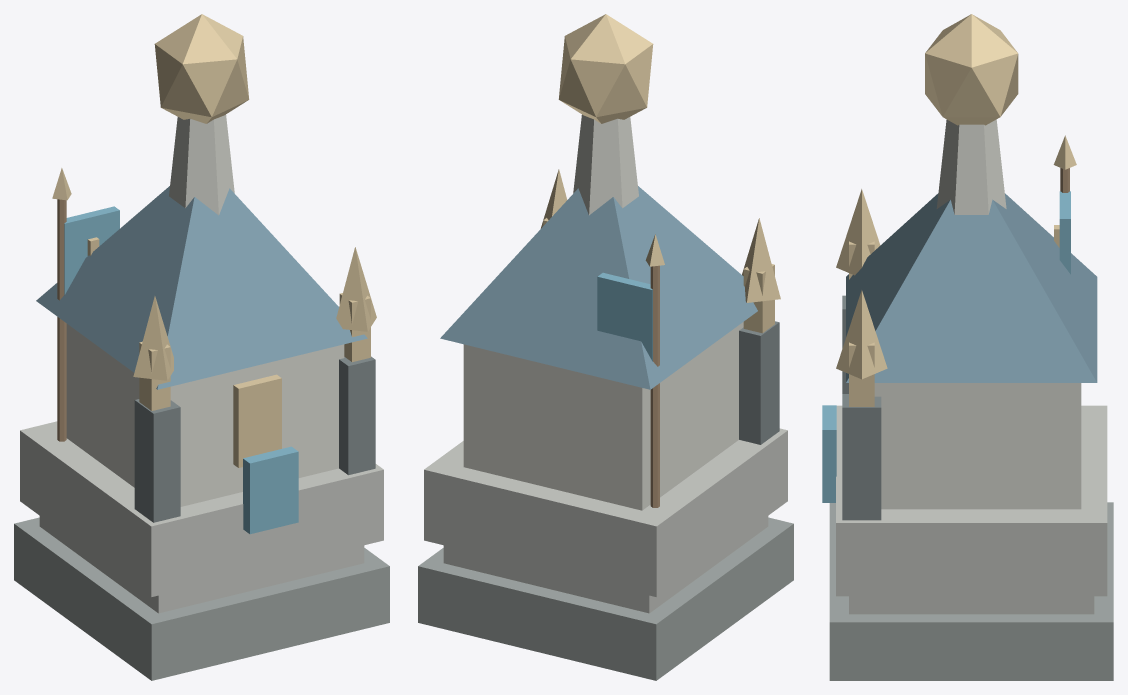
The model's file is human_temple_t5.glb.
3 views of the same model, side by side, from view 1: azimuth 30°, elevation 25°; view 2: azimuth 150°, elevation 25°; view 3: azimuth 270°, elevation 25° (orthographic). The views are drawn at different scales.
Visible parts, largest first — view 1: human_temple_t5_MAT_roof, human_temple_t5_MAT_stone, human_temple_t5_MAT_light, human_temple_t5_MAT_dark, human_temple_t5_MAT_gold, human_temple_t5_MAT_iron, human_temple_t5_MAT_blue, human_temple_t5_MAT_wood; view 2: human_temple_t5_MAT_light, human_temple_t5_MAT_stone, human_temple_t5_MAT_roof, human_temple_t5_MAT_dark, human_temple_t5_MAT_gold, human_temple_t5_MAT_iron, human_temple_t5_MAT_blue, human_temple_t5_MAT_wood; view 3: human_temple_t5_MAT_roof, human_temple_t5_MAT_stone, human_temple_t5_MAT_light, human_temple_t5_MAT_dark, human_temple_t5_MAT_gold, human_temple_t5_MAT_iron, human_temple_t5_MAT_blue.
Boxes of the visible parts, x1,y1,x2,y2 form: human_temple_t5_MAT_roof: (36, 186, 367, 389); human_temple_t5_MAT_stone: (20, 421, 383, 613); human_temple_t5_MAT_light: (66, 114, 344, 506); human_temple_t5_MAT_dark: (14, 517, 389, 680); human_temple_t5_MAT_gold: (52, 14, 376, 467); human_temple_t5_MAT_iron: (134, 356, 375, 522); human_temple_t5_MAT_blue: (64, 206, 298, 534); human_temple_t5_MAT_wood: (57, 199, 66, 441); human_temple_t5_MAT_light: (463, 114, 743, 510); human_temple_t5_MAT_stone: (424, 428, 787, 613); human_temple_t5_MAT_roof: (440, 186, 757, 389); human_temple_t5_MAT_dark: (418, 517, 793, 680); human_temple_t5_MAT_gold: (540, 14, 780, 333); human_temple_t5_MAT_iron: (739, 321, 779, 444); human_temple_t5_MAT_blue: (597, 272, 652, 361); human_temple_t5_MAT_wood: (650, 265, 659, 507); human_temple_t5_MAT_roof: (846, 193, 1097, 382); human_temple_t5_MAT_stone: (836, 405, 1107, 614); human_temple_t5_MAT_light: (874, 119, 1081, 509); human_temple_t5_MAT_dark: (829, 502, 1113, 680); human_temple_t5_MAT_gold: (836, 14, 1076, 406); human_temple_t5_MAT_iron: (842, 295, 881, 520); human_temple_t5_MAT_blue: (822, 191, 1070, 502).
Size of the model in its own units: 0.9 by 2.07 by 0.9025.
